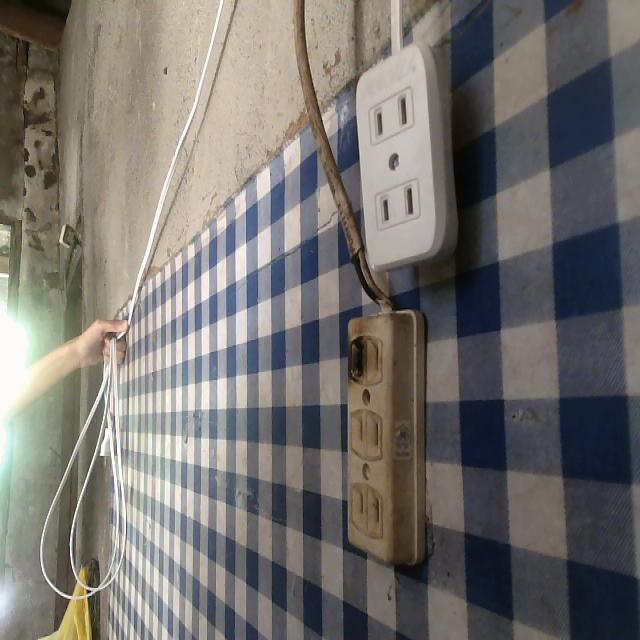-: (344, 328, 372, 391)
